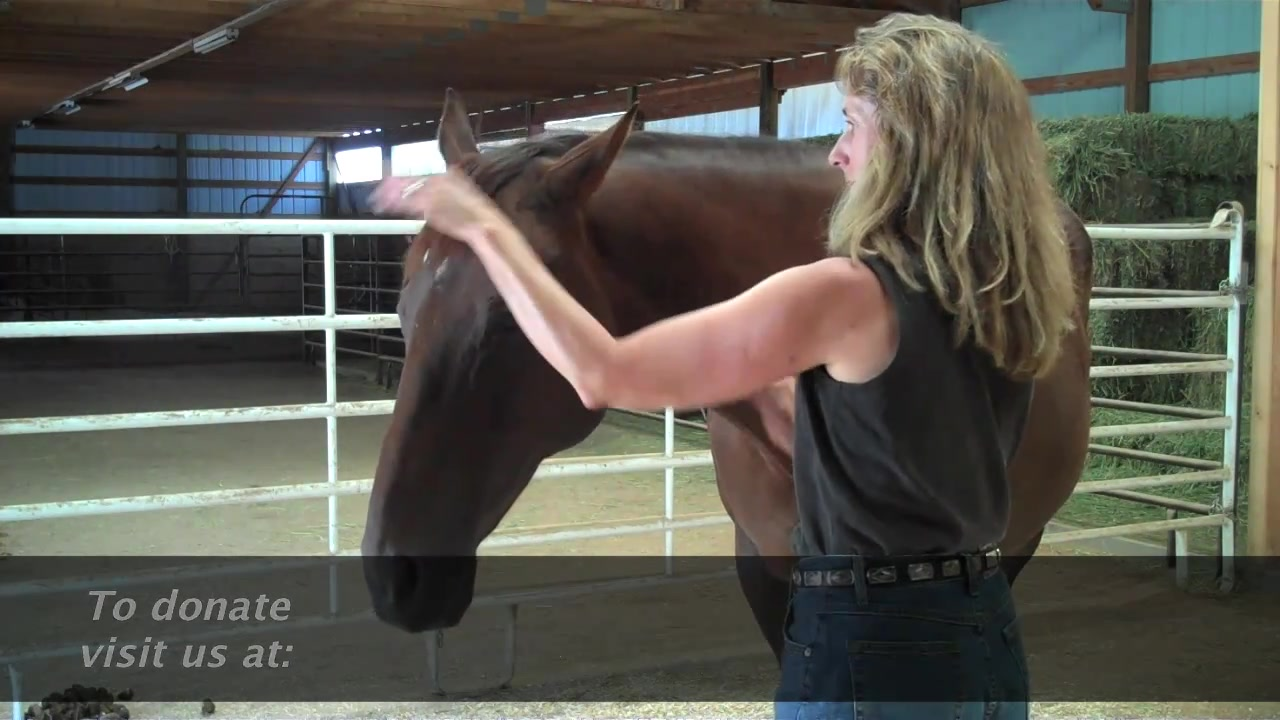horse: (361, 83, 1101, 558)
